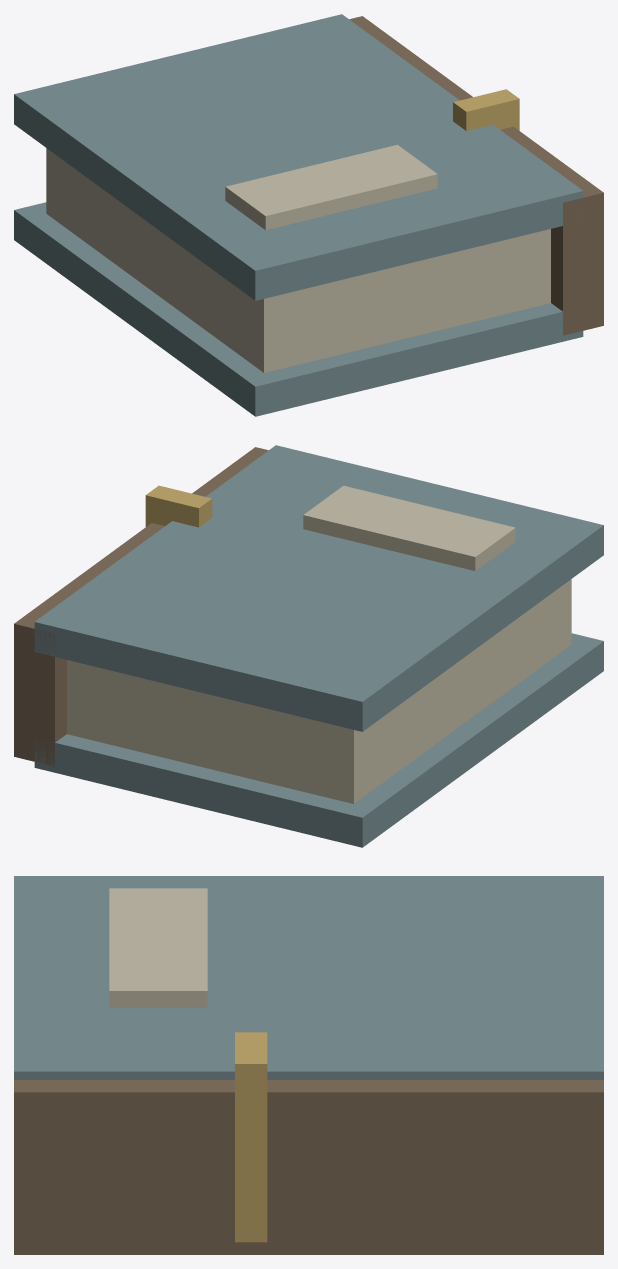
File: spread-portable-codex04.fbx
3 views of the same model, one above another, from view 1: azimuth 30°, elevation 25°; view 2: azimuth 150°, elevation 25°; view 3: azimuth 270°, elevation 25° (orthographic). The views are drawn at different scales.
Visible parts, largest first — view 1: spread-portable-codex04__Geometry; view 2: spread-portable-codex04__Geometry; view 3: spread-portable-codex04__Geometry.
Part boxes in pixels (bbox=[...]): spread-portable-codex04__Geometry: bbox=[14, 14, 603, 416]; spread-portable-codex04__Geometry: bbox=[14, 445, 603, 847]; spread-portable-codex04__Geometry: bbox=[14, 876, 603, 1254].
Size of the model in its own units: 0.4325 by 0.1925 by 0.51.
